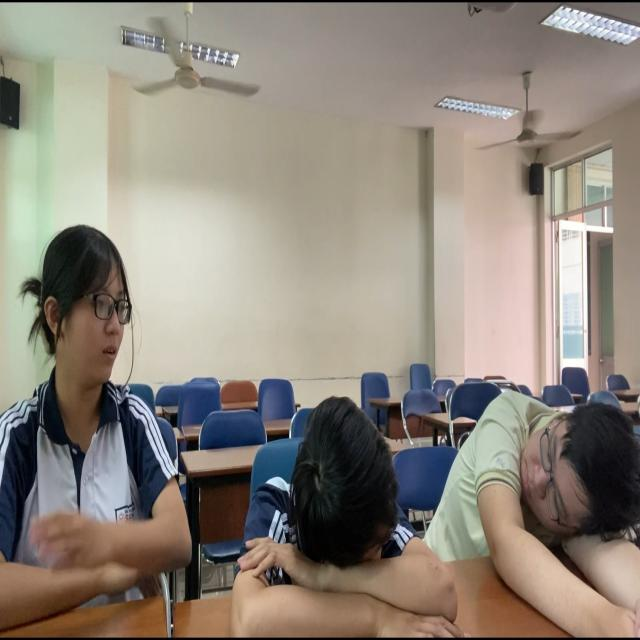sleep: (234, 386, 460, 640), (437, 364, 640, 640)
